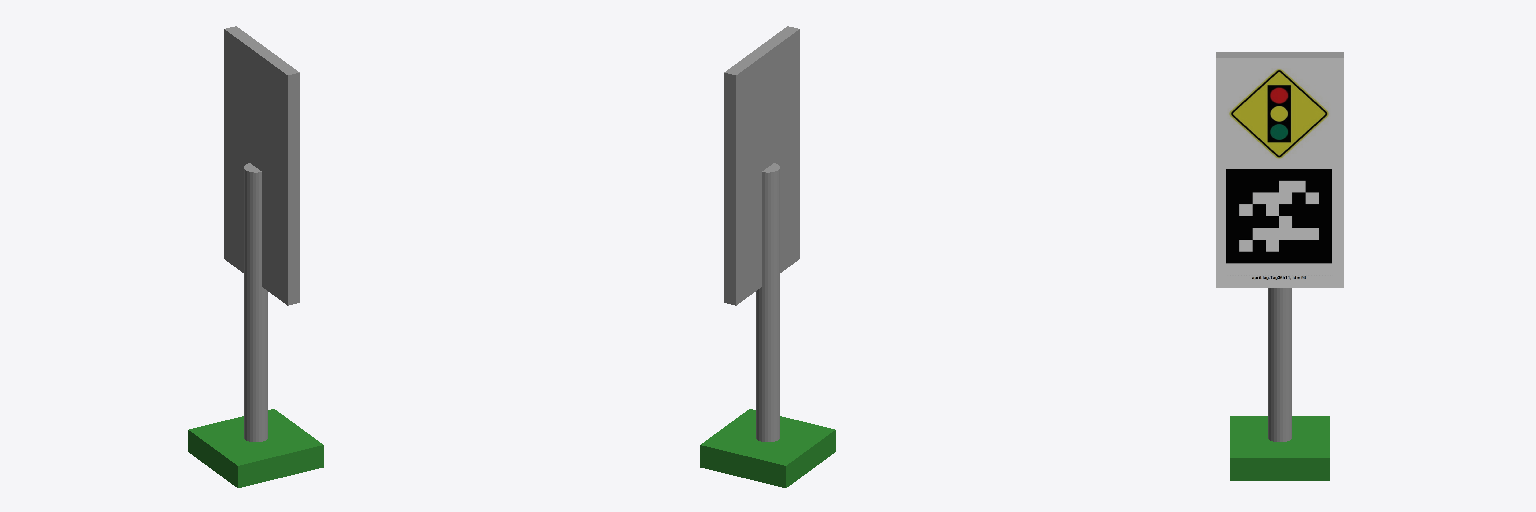
The picture shows the model from 3 angles: view 1: azimuth 30°, elevation 25°; view 2: azimuth 150°, elevation 25°; view 3: azimuth 270°, elevation 25°; orthographic projection.
Parts seen in each view (by area): view 1: SketchUp.002_ID23, SketchUp_ID2, SketchUp.001_ID10; view 2: SketchUp.002_ID23, SketchUp_ID2, SketchUp.001_ID10; view 3: SketchUp.003_ID31, SketchUp_ID2, SketchUp.001_ID10, SketchUp.002_ID23.
Part boxes in pixels (bbox=[...]): SketchUp.002_ID23: bbox=[224, 26, 299, 305]; SketchUp_ID2: bbox=[188, 409, 323, 487]; SketchUp.001_ID10: bbox=[244, 163, 267, 441]; SketchUp.002_ID23: bbox=[724, 26, 799, 305]; SketchUp_ID2: bbox=[700, 409, 835, 487]; SketchUp.001_ID10: bbox=[756, 163, 779, 441]; SketchUp.003_ID31: bbox=[1216, 58, 1343, 287]; SketchUp_ID2: bbox=[1230, 416, 1329, 480]; SketchUp.001_ID10: bbox=[1268, 288, 1291, 441]; SketchUp.002_ID23: bbox=[1216, 52, 1343, 57].
Bounding box in the file's own units: 0.0508 × 0.2301 × 0.065.
3 materials, 1 textured.